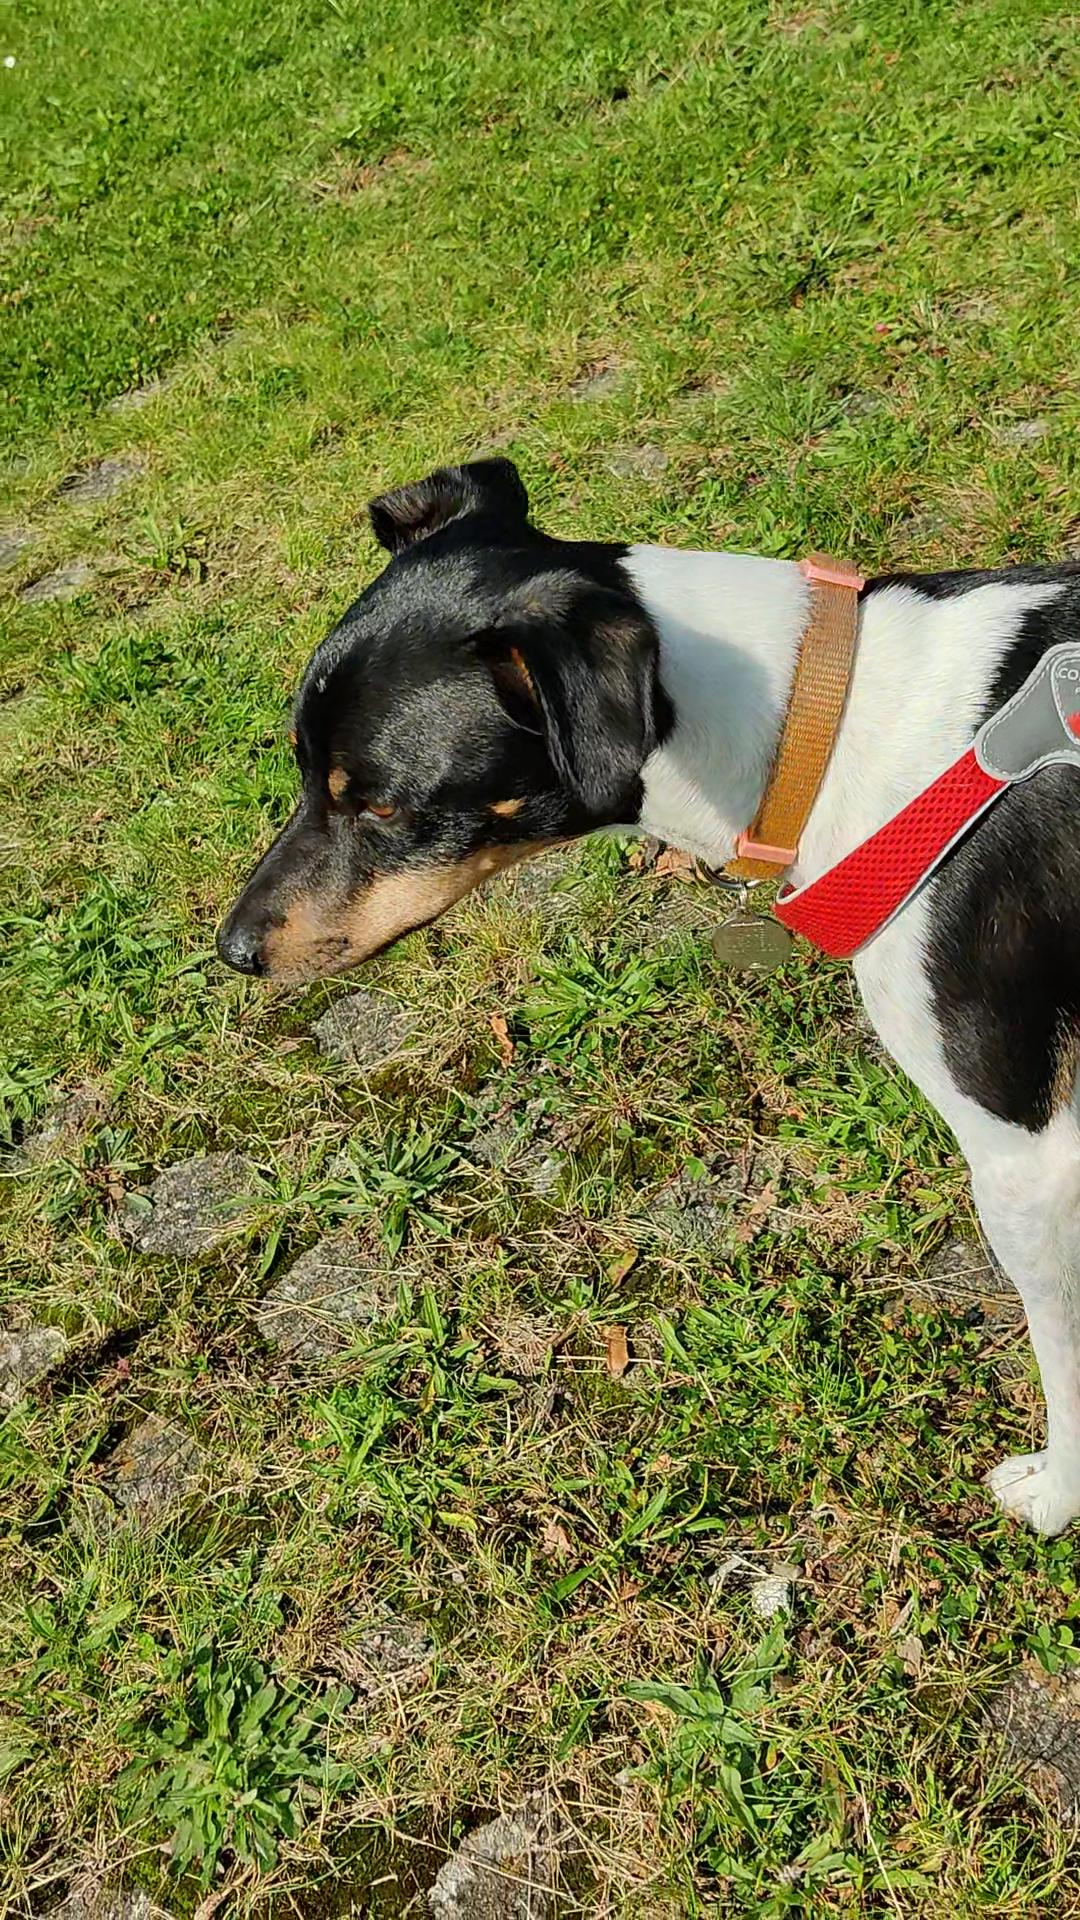Dog: (199, 372, 1079, 1582)
